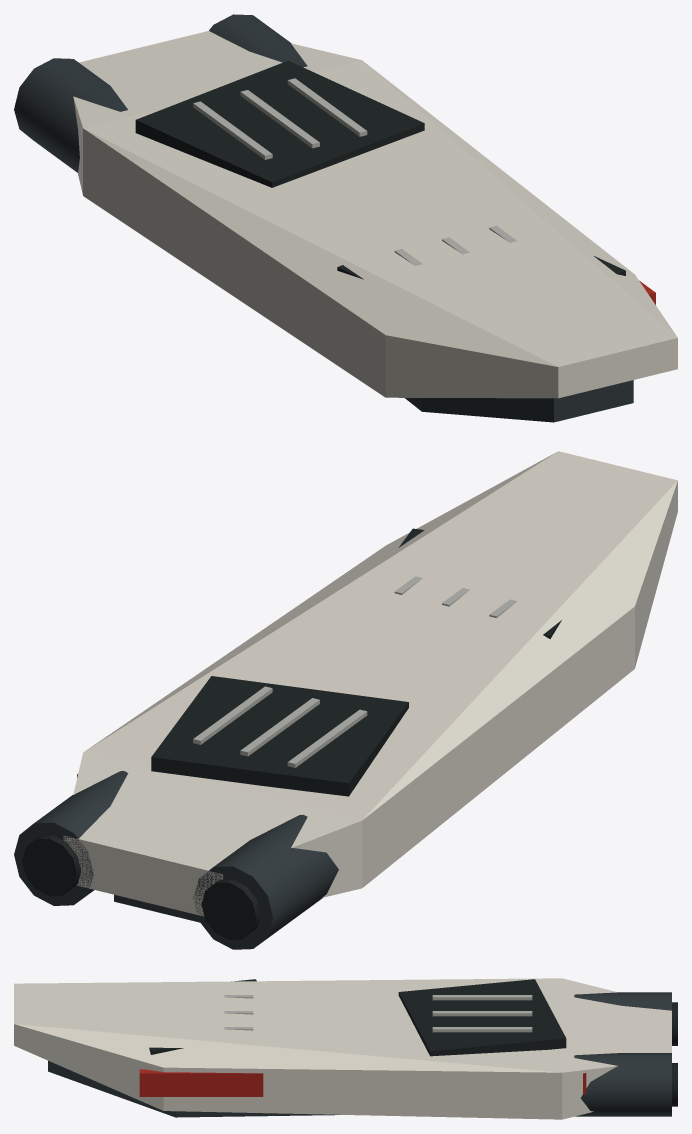
3 renders of one model, top to bottom at view 1: azimuth 30°, elevation 25°; view 2: azimuth 150°, elevation 25°; view 3: azimuth 270°, elevation 25°, orthographic. The views are drawn at different scales.
Visible parts, largest first — view 1: hoverboard-fleet-armor, hoverboard-fleet-rubber, hoverboard-fleet-machine, hoverboard-fleet-edge; view 2: hoverboard-fleet-armor, hoverboard-fleet-rubber, hoverboard-fleet-machine, hoverboard-fleet-edge; view 3: hoverboard-fleet-armor, hoverboard-fleet-rubber, hoverboard-fleet-machine, breakaway-1-painted, hoverboard-fleet-edge.
Boxes of the visible parts, x1,y1,x2,y2 form: hoverboard-fleet-armor: (73,31,677,398); hoverboard-fleet-rubber: (135,60,625,279); hoverboard-fleet-machine: (14,14,633,422); hoverboard-fleet-edge: (193,78,516,265); hoverboard-fleet-armor: (63,451,677,916); hoverboard-fleet-rubber: (22,528,561,939); hoverboard-fleet-machine: (14,771,338,949); hoverboard-fleet-edge: (193,576,517,767); hoverboard-fleet-armor: (14,978,671,1119); hoverboard-fleet-rubber: (149,979,677,1106); hoverboard-fleet-machine: (48,992,671,1117); breakaway-1-painted: (139,1069,586,1096); hoverboard-fleet-edge: (224,995,532,1032).
Size of the model in its own units: 2.92 by 1.25 by 8.68.
